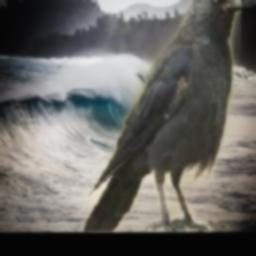Crow: (80, 0, 241, 231)
